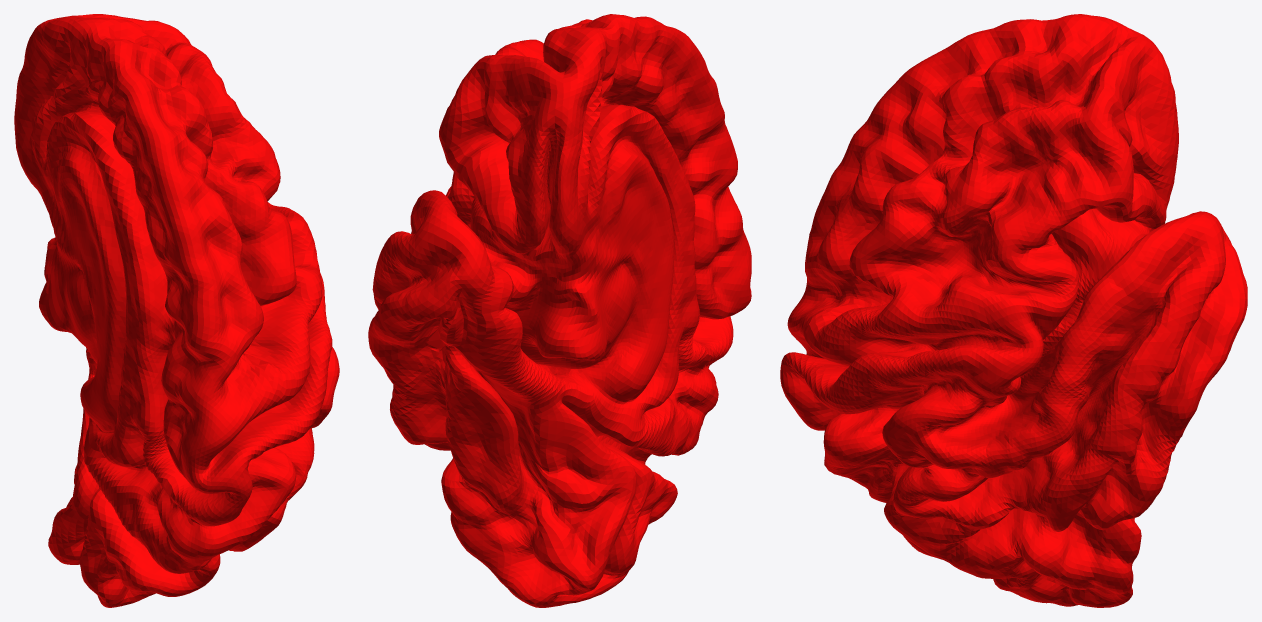
The model's file is mni_right_hemisphere.dae.
The picture shows the model from 3 angles, left to right: view 1: azimuth 30°, elevation 25°; view 2: azimuth 150°, elevation 25°; view 3: azimuth 270°, elevation 25°; orthographic projection.
Visible parts, largest first — view 1: node0; view 2: node0; view 3: node0.
Part boxes in pixels (x1,y1,x2,y2): node0: (14,14,339,607); node0: (368,14,751,607); node0: (780,14,1247,607).
Bounding box in the file's own units: 70.01 × 174 × 128.
